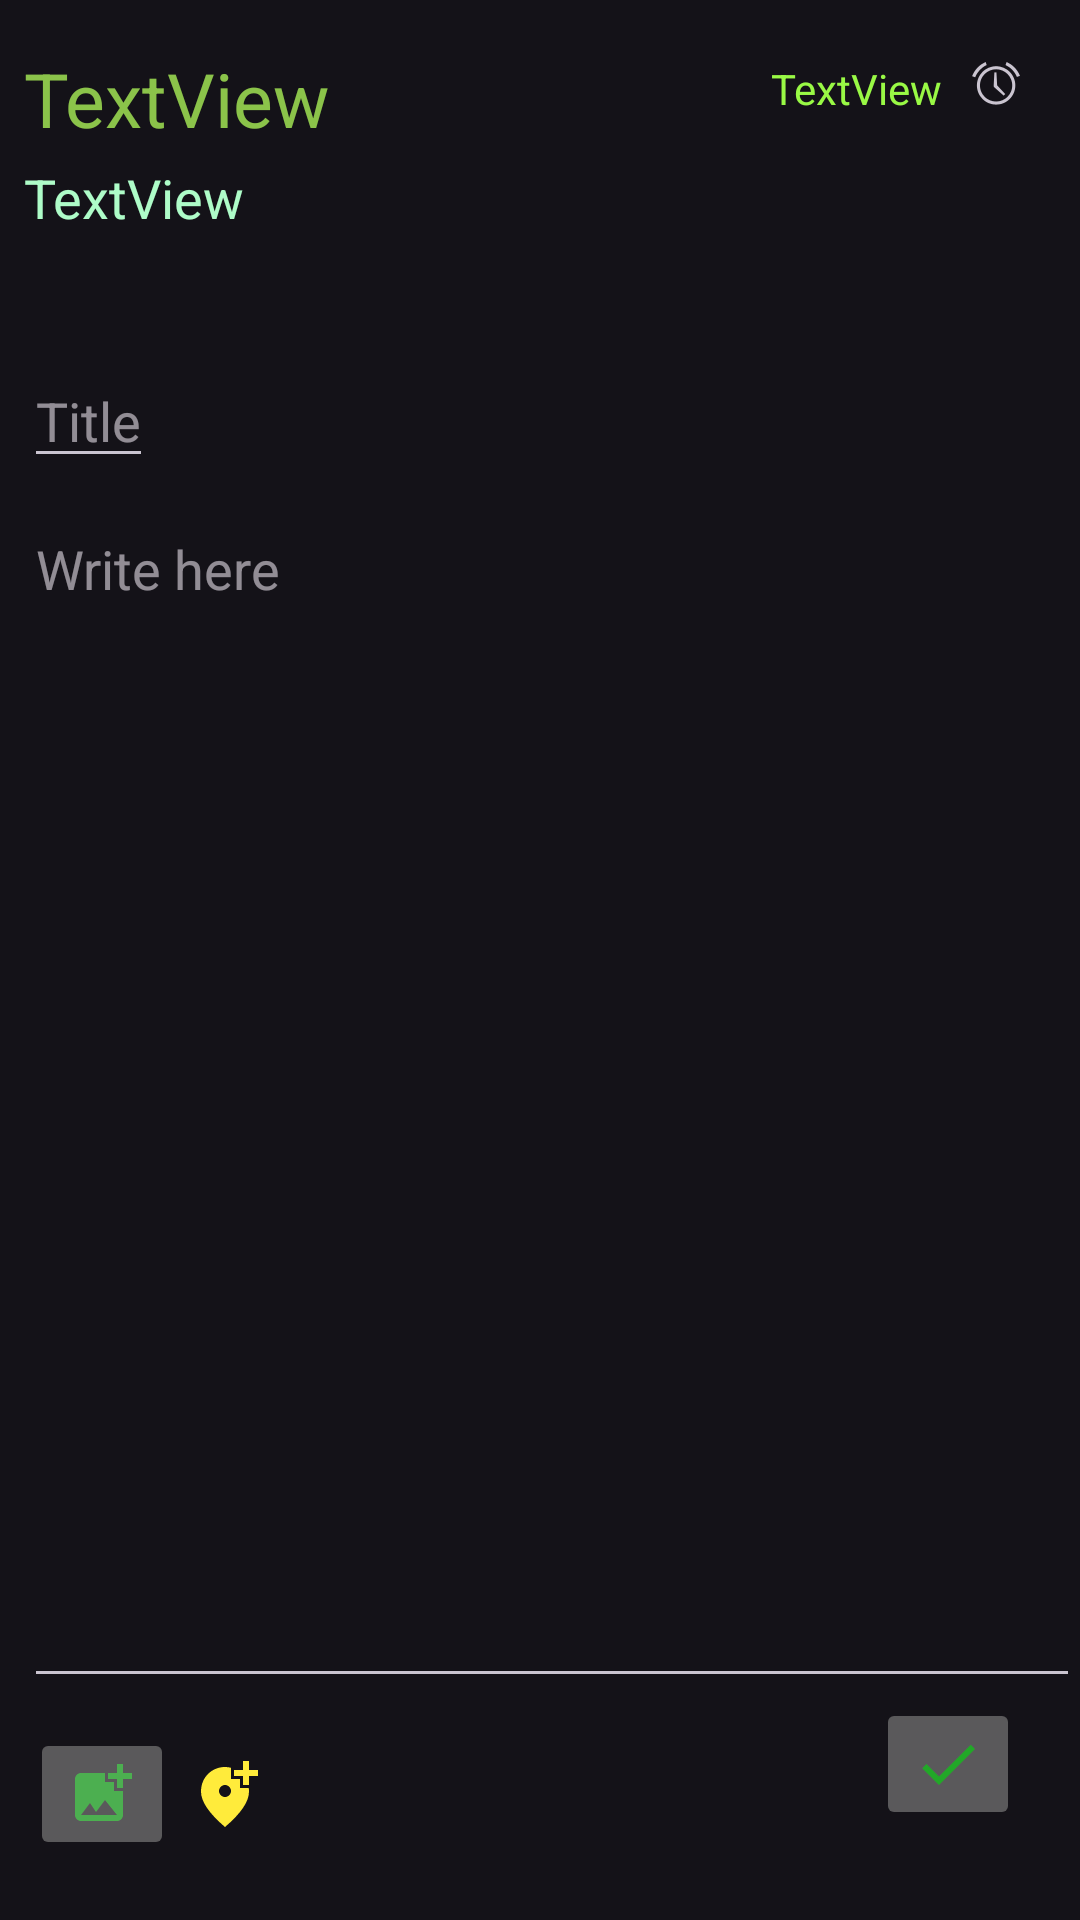

Named icons in this screenshot (1080 x 1920) and their bounding boxes, (x1, y1, x2, y2):
add location: (201, 1761, 258, 1827)
add photo alternate: (42, 1746, 162, 1842)
check: (888, 1716, 1008, 1812)
lock idle alarm: (972, 62, 1020, 105)
